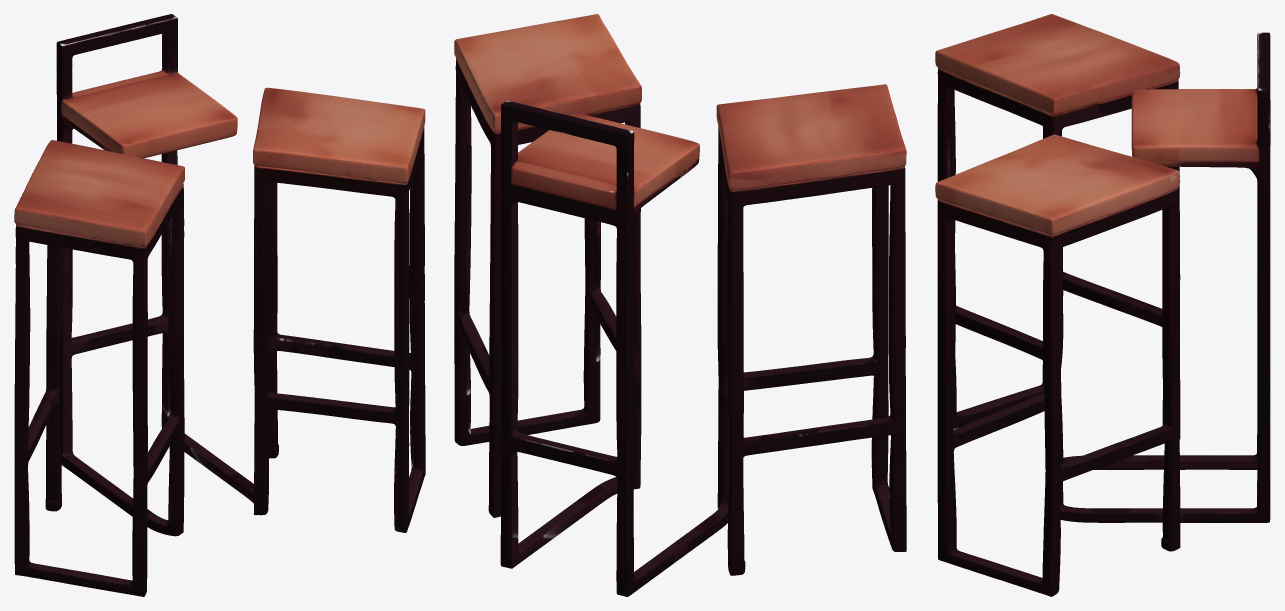
File: banqueta.glb
The picture shows the model from 3 angles, left to right: view 1: azimuth 30°, elevation 25°; view 2: azimuth 150°, elevation 25°; view 3: azimuth 270°, elevation 25°; orthographic projection. The views are drawn at different scales.
Visible parts, largest first — view 1: model; view 2: model; view 3: model.
Boxes of the visible parts, x1,y1,x2,y2 form: model: (14, 14, 425, 596); model: (454, 14, 906, 596); model: (935, 14, 1270, 596).
Size of the model in its own units: 1.9 by 1.86 by 1.3.
Materials: 1 (1 with a texture image).
